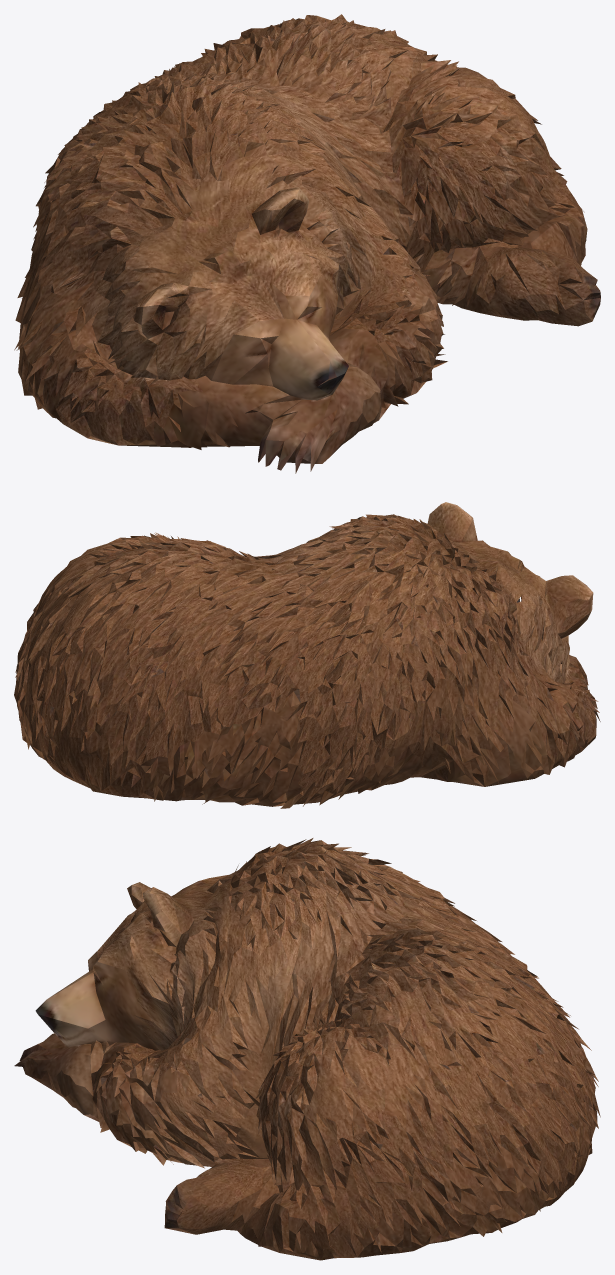
File: ayi_uyur.glb
The picture shows the model from 3 angles, top to bottom: view 1: azimuth 30°, elevation 25°; view 2: azimuth 150°, elevation 25°; view 3: azimuth 270°, elevation 25°; orthographic projection. The views are drawn at different scales.
Visible parts, largest first — view 1: output_unwrapped; view 2: output_unwrapped; view 3: output_unwrapped.
Part boxes in pixels (bbox=[...]): output_unwrapped: bbox=[14, 14, 600, 473]; output_unwrapped: bbox=[14, 502, 600, 808]; output_unwrapped: bbox=[14, 838, 600, 1260].
Size of the model in its own units: 1.89 by 0.7901 by 1.74.
Materials: 1 (1 with a texture image).
